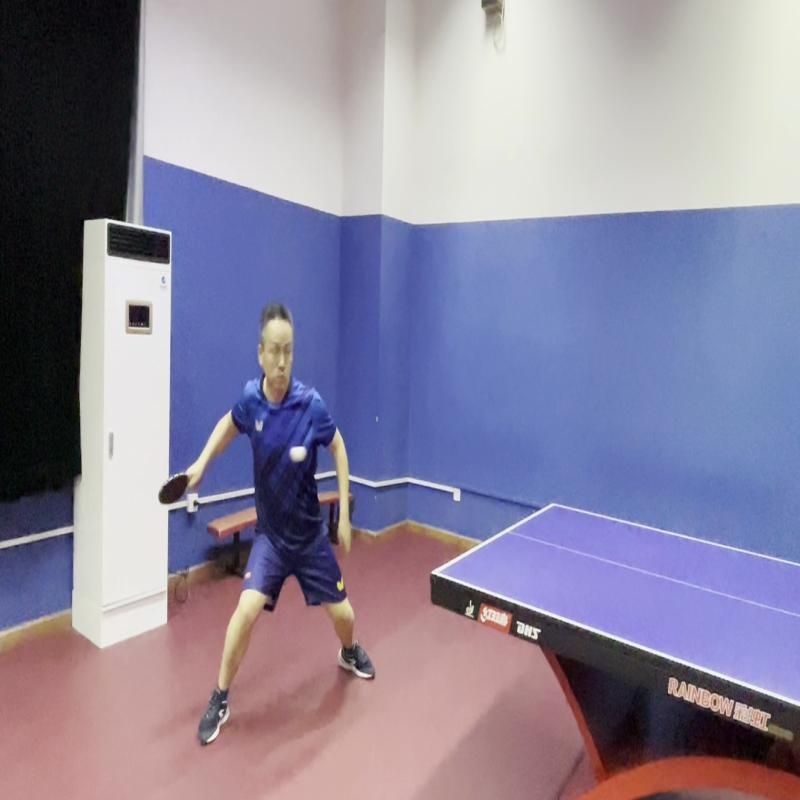bats: (154, 463, 196, 513)
